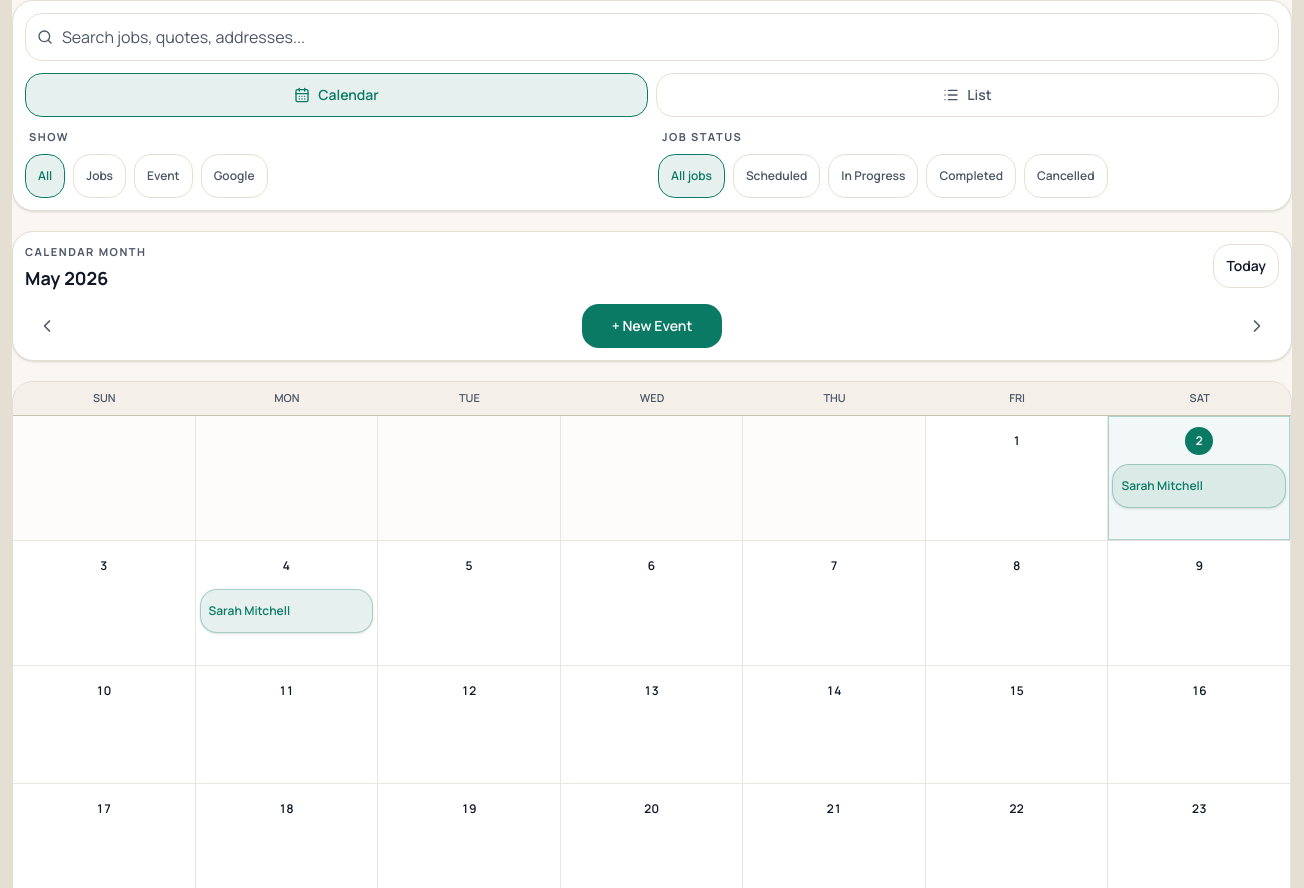
ScheduleCalendar › returns to today from another month
Click the button named "Next month".
click(1257, 326)  # box [1235,304,1279,348]
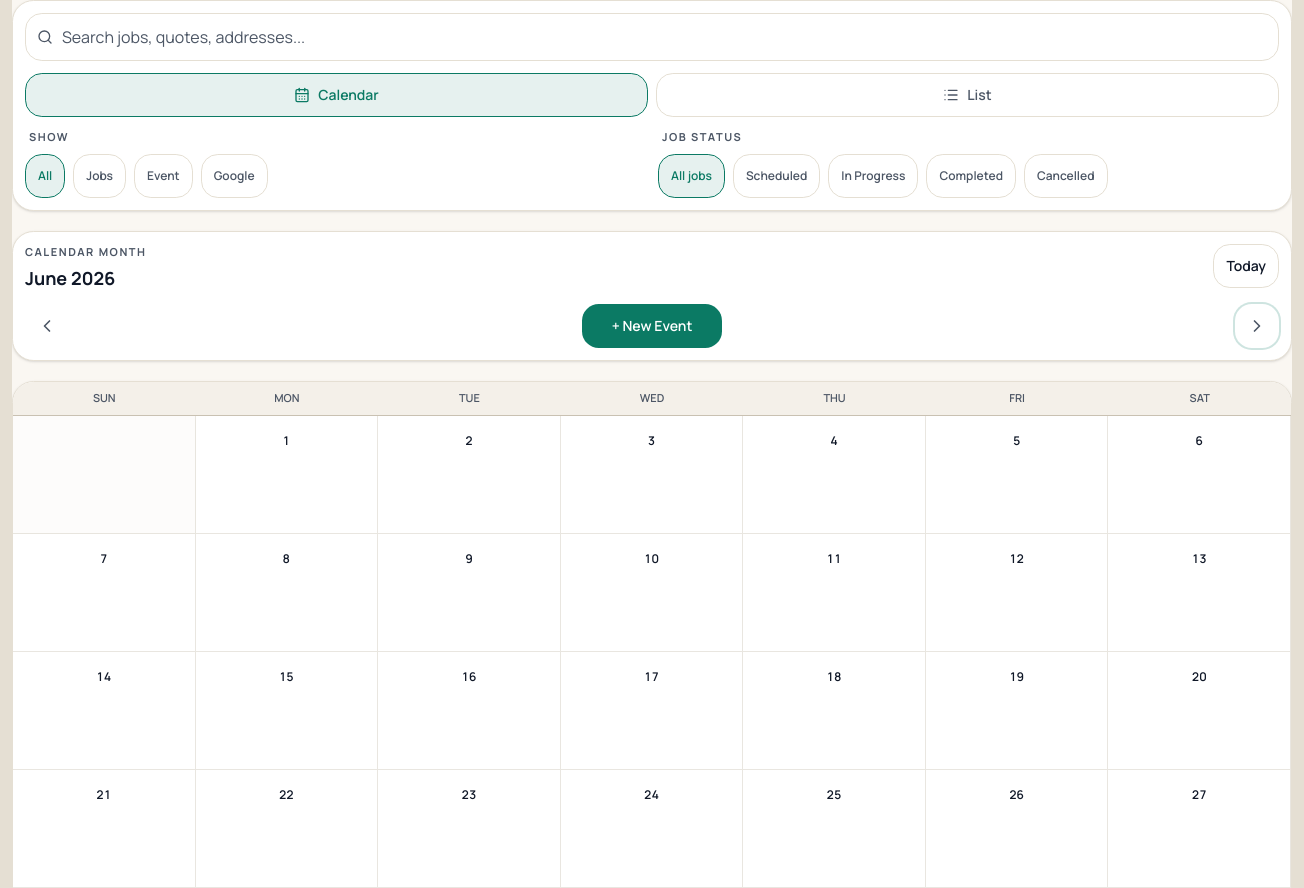
Expected: the heading "June 2026" is shown, [25,266,116,290]
Click the button "Today".
click(1246, 266)  # box [1213,244,1279,288]
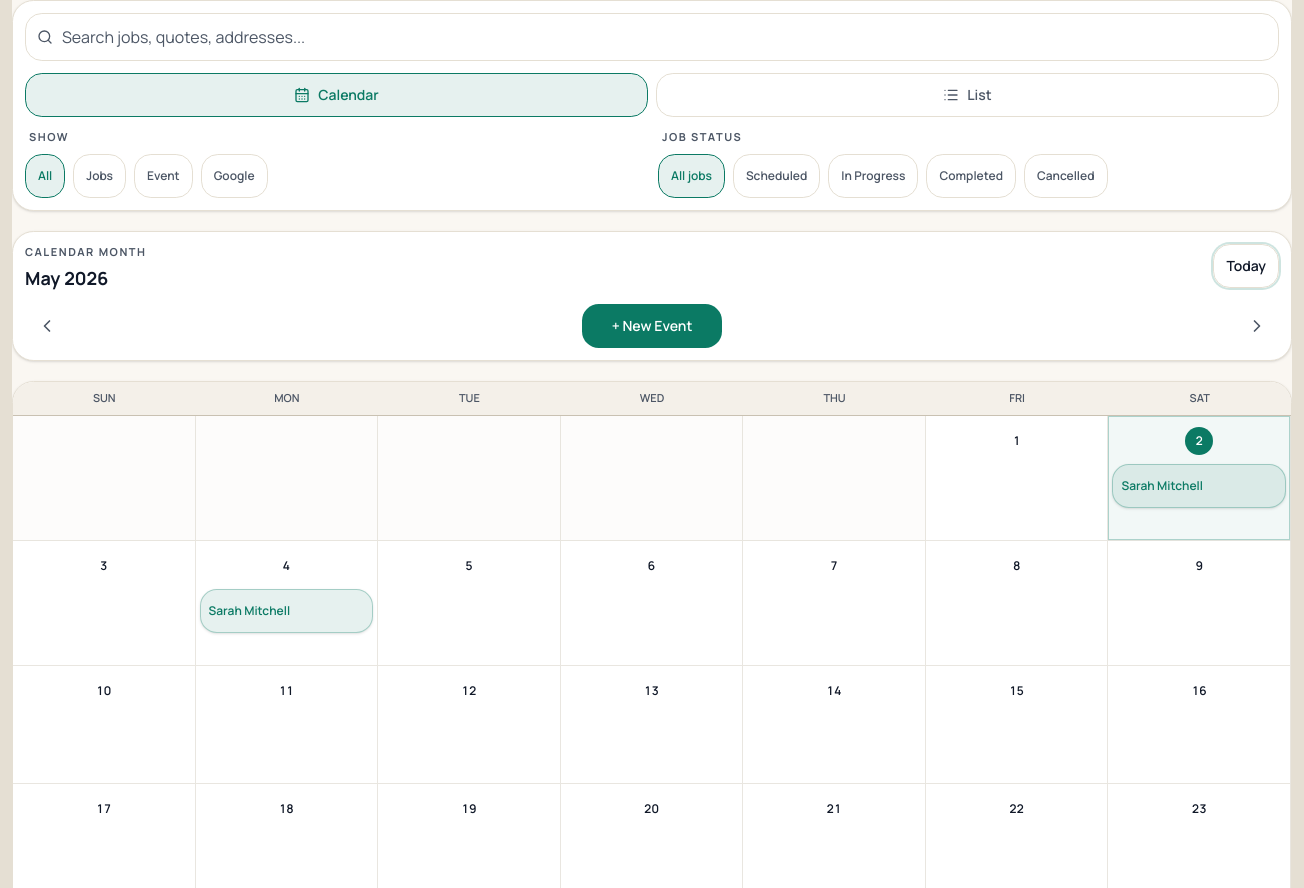
Expected: the heading "May 2026" is shown, [25,266,108,290]
